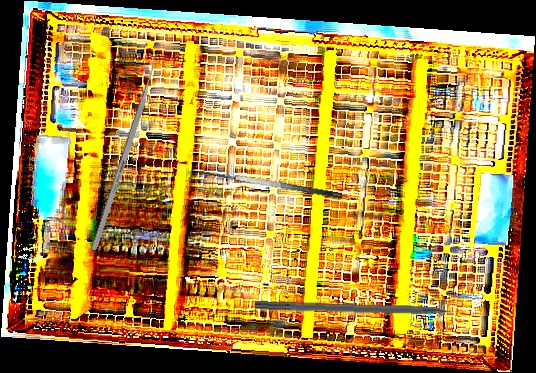Pusher: (90, 42, 165, 251), (254, 300, 482, 320)
Spatula Surgical: (193, 164, 343, 212)
